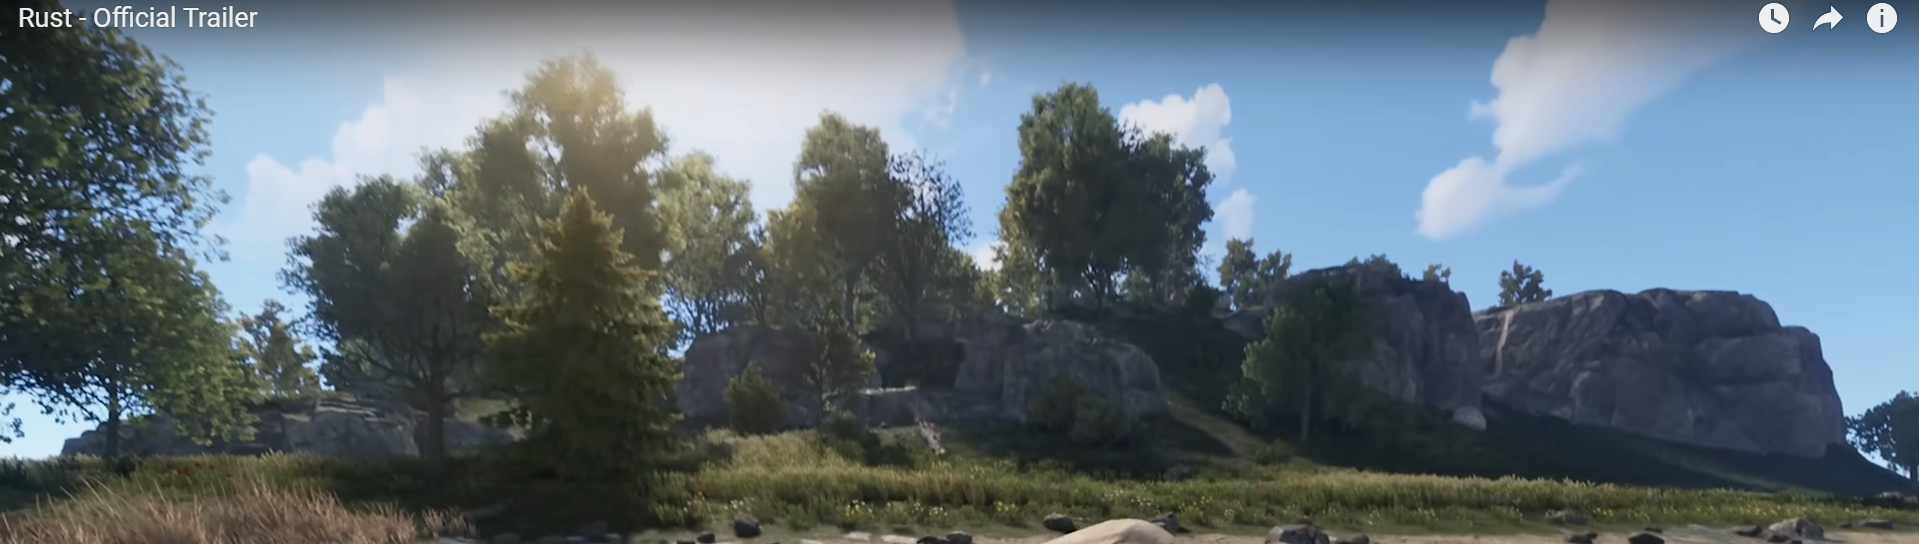tree: (1010, 104, 1185, 331), (521, 196, 647, 510), (764, 110, 911, 361), (86, 274, 159, 490), (1245, 301, 1340, 466), (397, 294, 471, 482), (832, 252, 851, 346), (1081, 262, 1115, 311), (1295, 361, 1311, 458)
